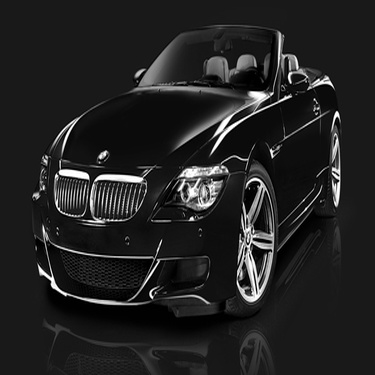car: (14, 12, 351, 331)
